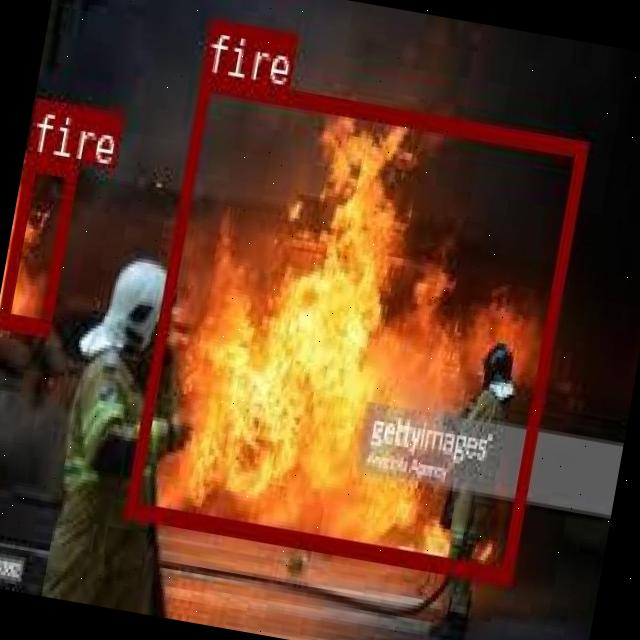fire: (124, 71, 586, 582), (0, 152, 76, 332)
